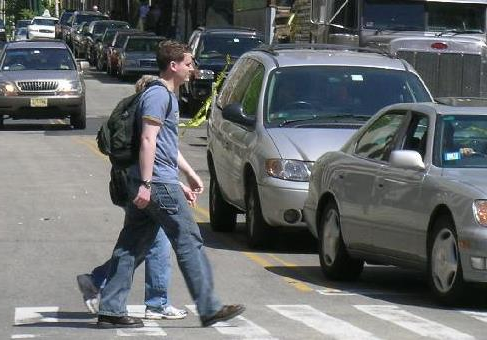pedestrian: (97, 41, 244, 329)
